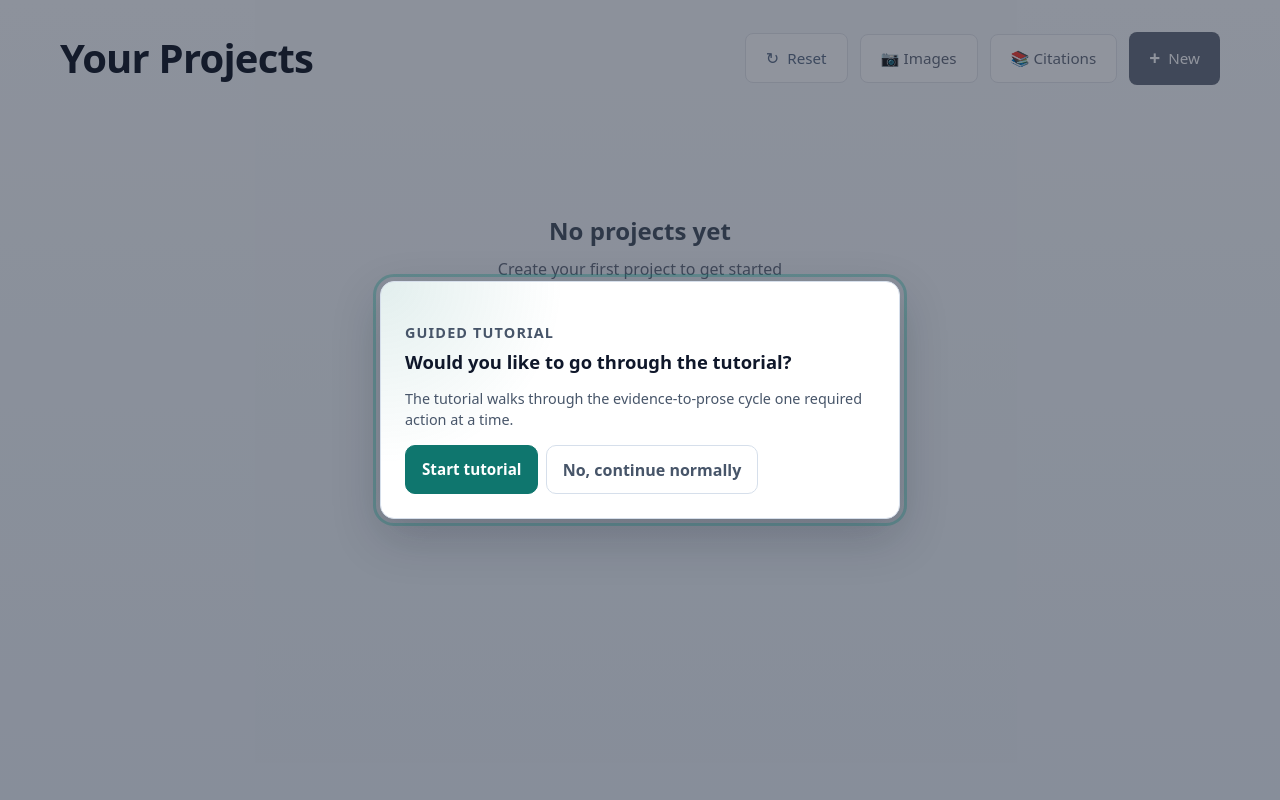
Test case: selecting no dismisses the tutorial prompt
This screenshot has width=1280, height=800.
Click the button "No, continue normally": [652, 470] box [546,445,758,494]
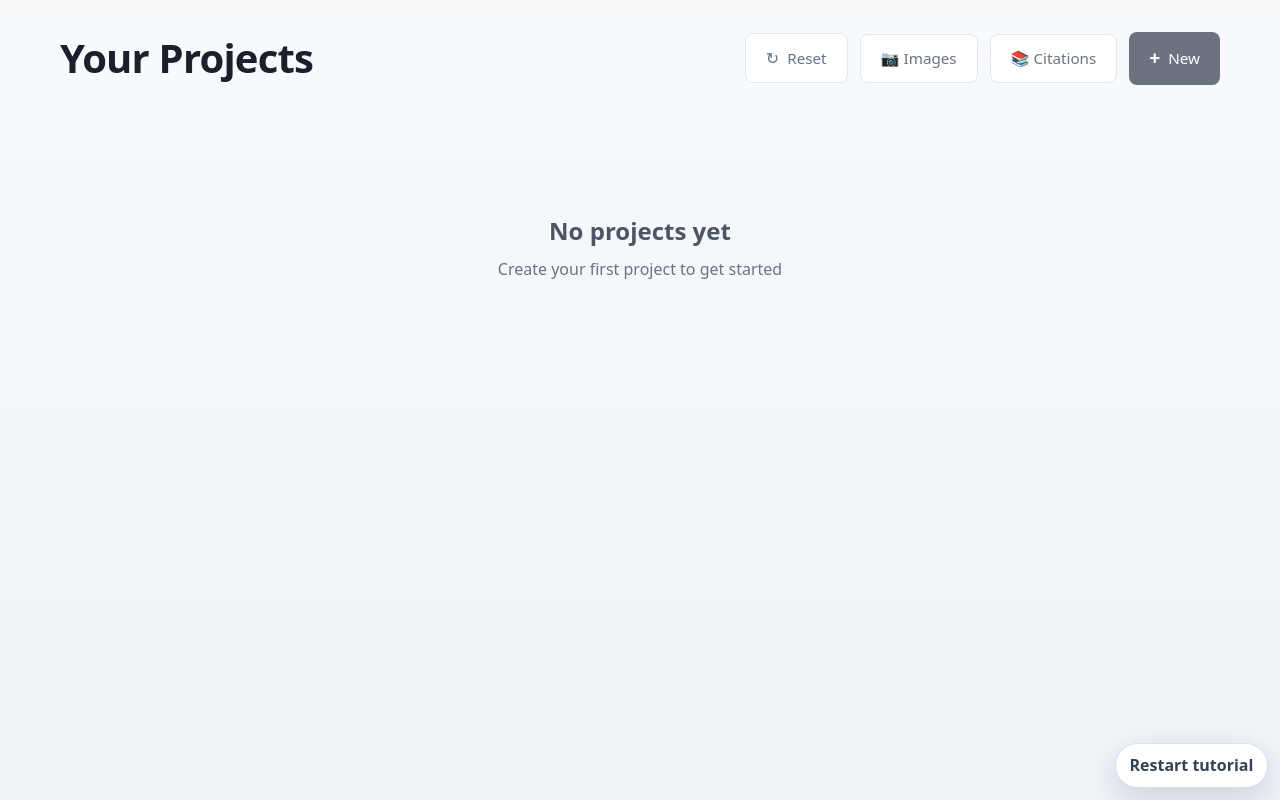
Expected: the heading "Would you like to go through the tutorial" is gone
